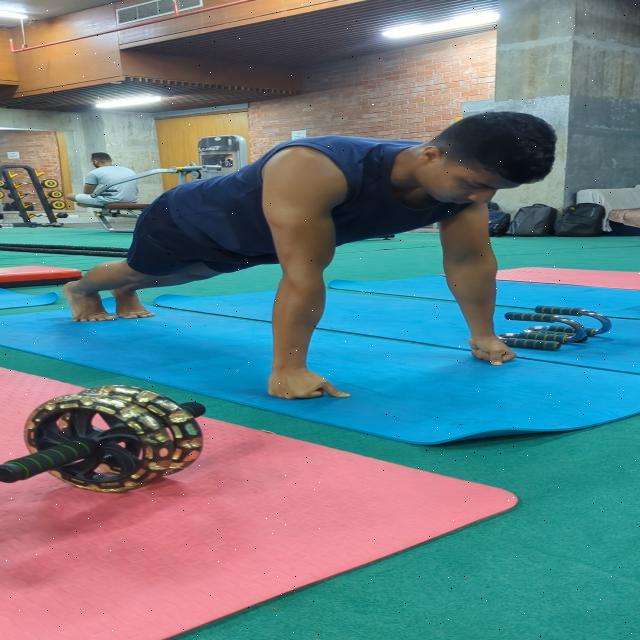Normal_PushUps: (12, 105, 566, 407)
